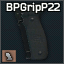P226 Combat pistol grip Flat Dark Earth: (0, 0, 64, 64)
